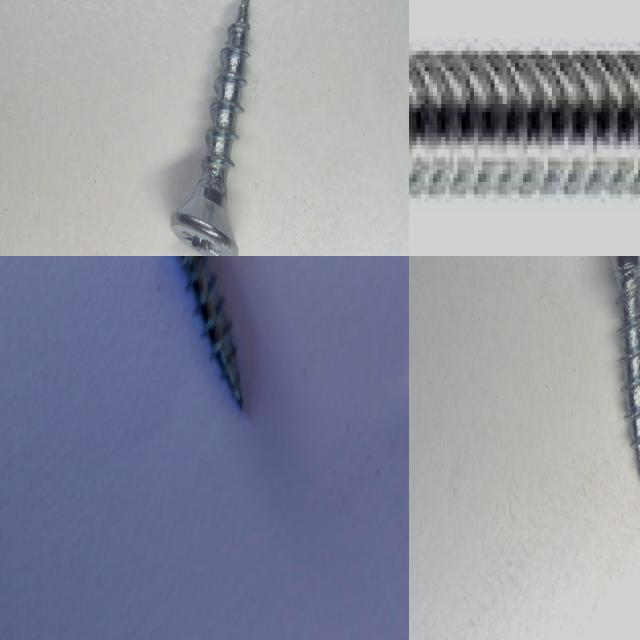Screw: (409, 55, 640, 197), (171, 0, 250, 256), (179, 256, 243, 406), (610, 256, 640, 478)
